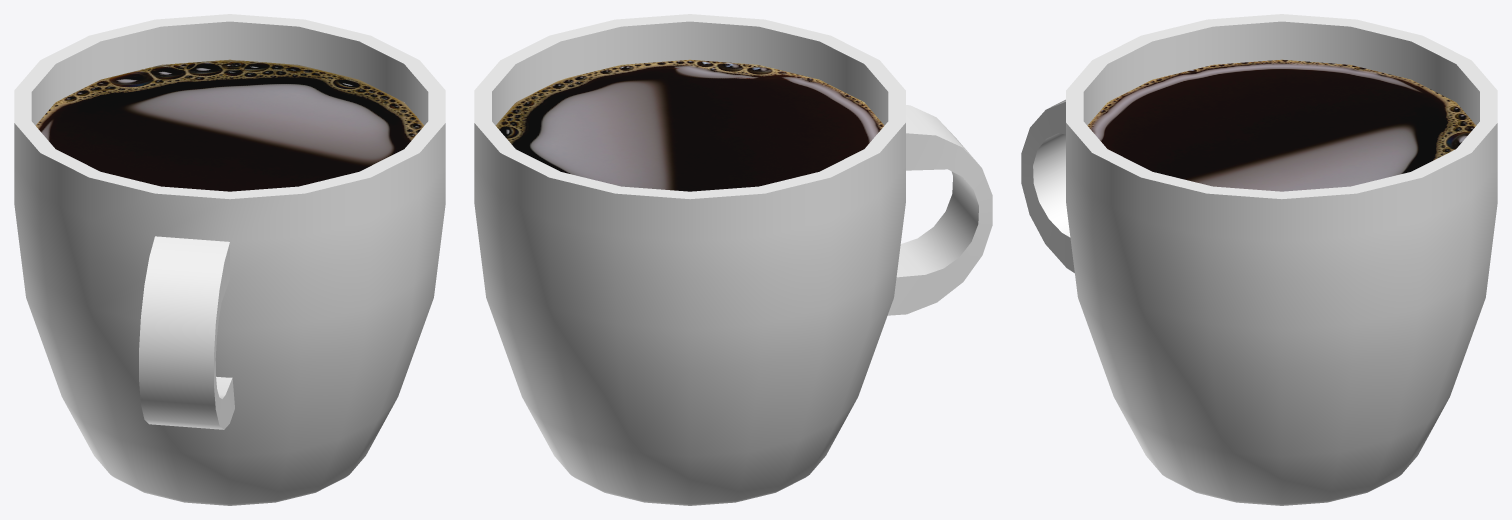
The model's file is Coffee.FBX.
The picture shows the model from 3 angles, left to right: view 1: azimuth 30°, elevation 25°; view 2: azimuth 150°, elevation 25°; view 3: azimuth 270°, elevation 25°; orthographic projection.
Parts seen in each view (by area): view 1: Coffee; view 2: Coffee; view 3: Coffee.
Part boxes in pixels (x1,y1,x2,y2): Coffee: [14, 14, 445, 505]; Coffee: [474, 14, 992, 505]; Coffee: [1021, 14, 1497, 505].
Size of the model in its own units: 15.42 by 13.08 by 16.46.
1 material, 1 textured.
